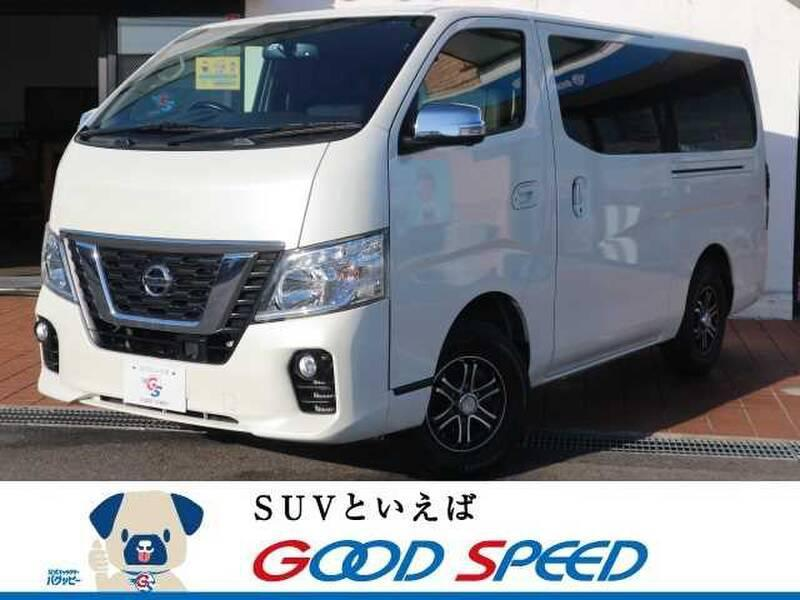Van: (28, 10, 778, 438)
